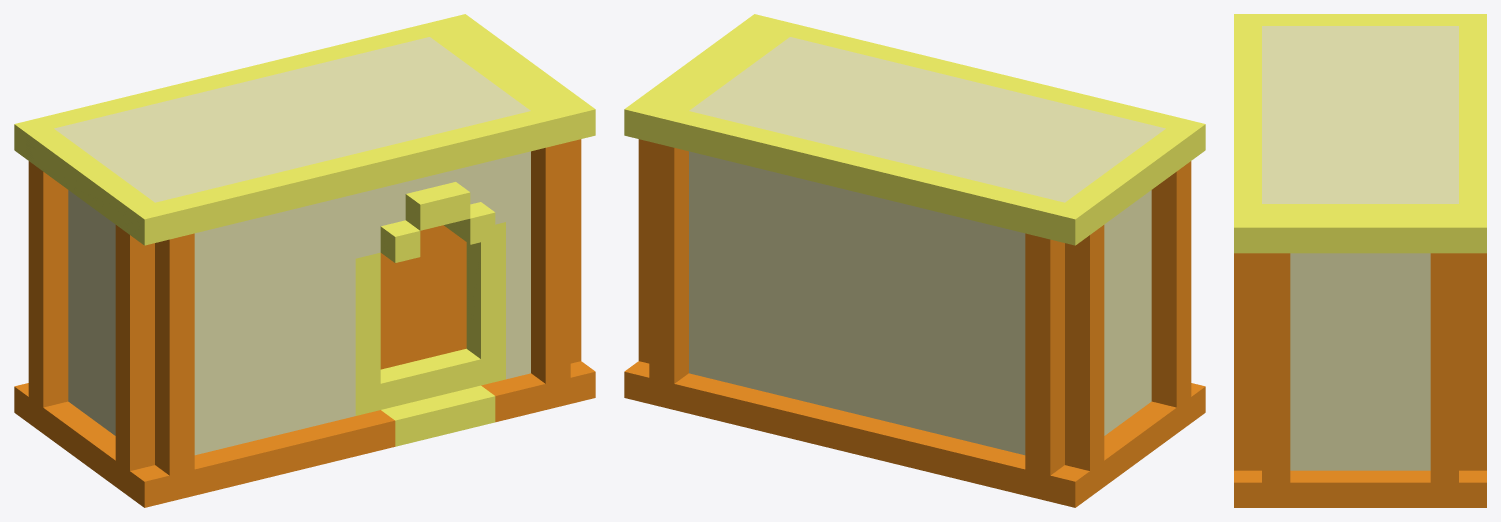
File: dodai_madoNashi.obj
3 views of the same model, side by side, from view 1: azimuth 30°, elevation 25°; view 2: azimuth 150°, elevation 25°; view 3: azimuth 270°, elevation 25° (orthographic). The views are drawn at different scales.
Visible parts, largest first — view 1: dodai_madoNashi; view 2: dodai_madoNashi; view 3: dodai_madoNashi.
Boxes of the visible parts, left/top/right/bottom form: dodai_madoNashi: left=14, top=14, right=595, bottom=507; dodai_madoNashi: left=624, top=14, right=1205, bottom=507; dodai_madoNashi: left=1234, top=14, right=1486, bottom=507.
Size of the model in its own units: 18 by 11 by 9.
1 material, 1 textured.
